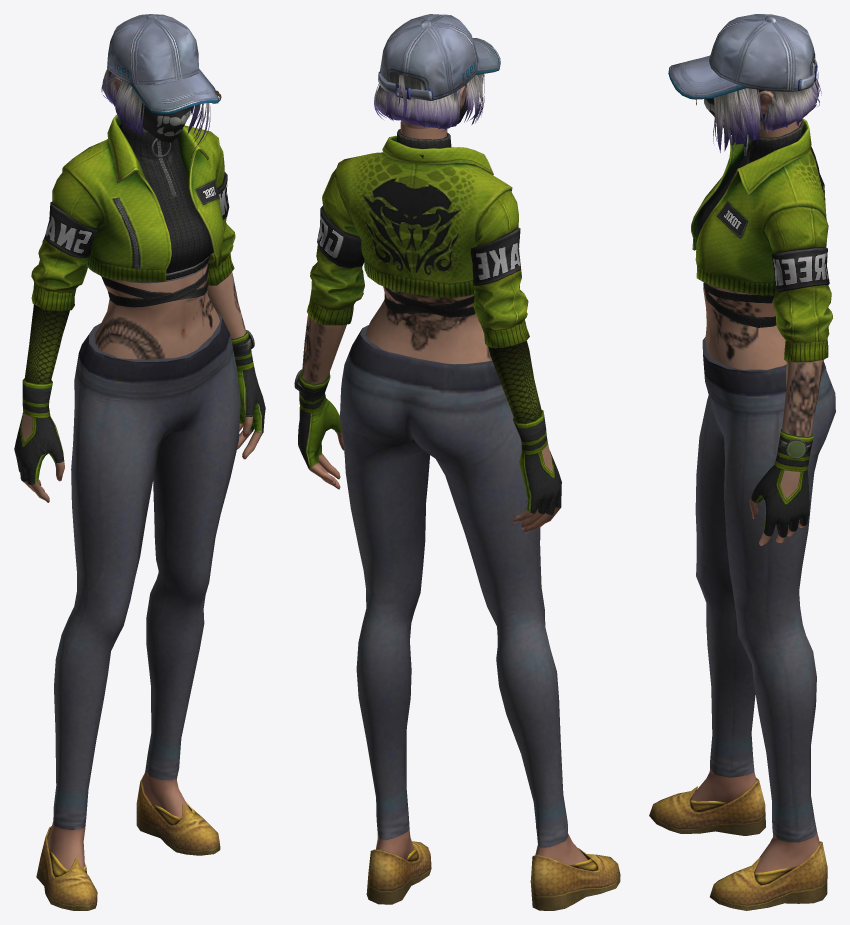
Rendered from freefire_new_girl_model_by_pacegaming.glb.
The picture shows the model from 3 angles, left to right: view 1: azimuth 30°, elevation 25°; view 2: azimuth 150°, elevation 25°; view 3: azimuth 270°, elevation 25°; orthographic projection. The views are drawn at different scales.
Parts seen in each view (by area): view 1: Object_3, Object_6, Object_5, Object_4, Object_2, Object_8, Object_7; view 2: Object_3, Object_6, Object_5, Object_4, Object_2, Object_8; view 3: Object_3, Object_6, Object_5, Object_4, Object_2, Object_8.
Part boxes in pixels (left/top/right/bottom): Object_3: left=53, top=311, right=240, bottom=829; Object_6: left=14, top=114, right=265, bottom=484; Object_5: left=21, top=77, right=263, bottom=870; Object_4: left=107, top=14, right=221, bottom=114; Object_2: left=36, top=774, right=220, bottom=910; Object_8: left=101, top=69, right=210, bottom=146; Object_7: left=122, top=80, right=191, bottom=142; Object_3: left=339, top=325, right=567, bottom=847; Object_6: left=294, top=129, right=561, bottom=515; Object_5: left=301, top=85, right=587, bottom=865; Object_4: left=378, top=14, right=500, bottom=100; Object_2: left=366, top=841, right=620, bottom=910; Object_8: left=374, top=73, right=484, bottom=131; Object_3: left=695, top=337, right=835, bottom=842; Object_6: left=691, top=118, right=832, bottom=537; Object_5: left=691, top=89, right=823, bottom=872; Object_4: left=668, top=14, right=817, bottom=105; Object_2: left=649, top=777, right=827, bottom=910; Object_8: left=713, top=56, right=821, bottom=152.
Bounding box in the file's own units: 1.99 × 6.18 × 1.21.
Materials: 7 (7 with a texture image).
